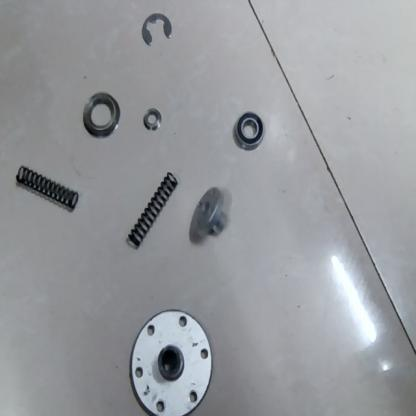FOD: (126, 305, 216, 415), (124, 168, 181, 252), (13, 160, 84, 214), (187, 182, 231, 246), (80, 89, 121, 140), (230, 110, 267, 149), (139, 14, 174, 48), (144, 105, 161, 132)
